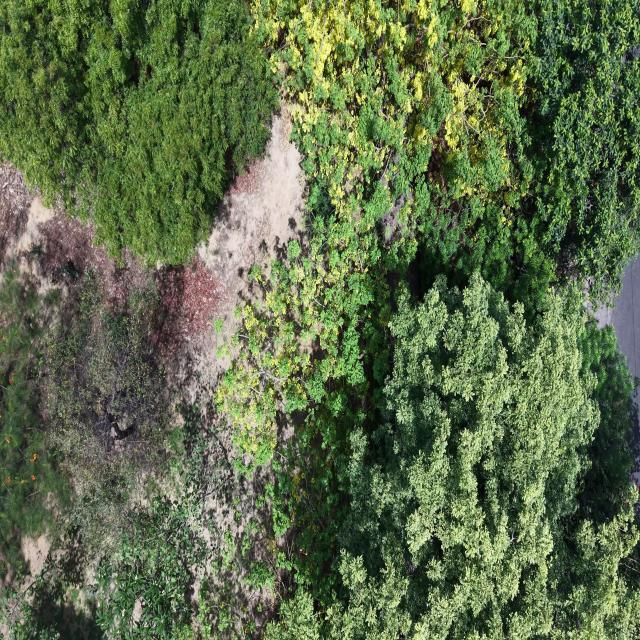DRY_AREA: (0, 107, 304, 402), (0, 107, 304, 386), (155, 107, 304, 403), (167, 110, 304, 425), (174, 110, 305, 422), (178, 109, 304, 399), (176, 107, 304, 339), (0, 163, 148, 303), (200, 117, 304, 314), (0, 164, 147, 303), (32, 210, 148, 304), (154, 256, 225, 360), (596, 257, 639, 377), (0, 162, 39, 263), (5, 197, 61, 262), (0, 163, 32, 260), (21, 535, 50, 594), (21, 536, 50, 576)
PATHWAYS: (596, 258, 639, 377)
VEGETATION_TREE: (0, 0, 639, 639), (219, 2, 639, 637), (96, 274, 639, 638), (0, 0, 639, 299), (220, 0, 639, 451), (221, 2, 537, 448), (267, 275, 639, 638), (268, 274, 639, 637), (255, 0, 639, 303), (339, 276, 597, 637), (255, 0, 537, 270), (0, 0, 277, 263), (0, 270, 181, 639), (0, 404, 281, 639), (0, 269, 178, 562), (79, 0, 277, 263), (95, 407, 277, 639), (40, 272, 179, 555), (524, 0, 639, 298), (97, 447, 208, 639), (0, 266, 66, 576), (97, 498, 206, 639), (580, 319, 637, 521), (0, 548, 102, 639), (3, 567, 63, 639)
